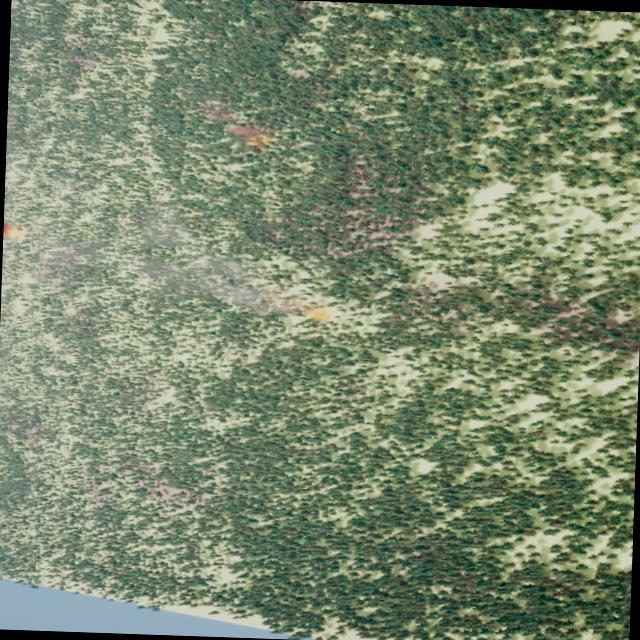fire: (302, 304, 326, 320), (3, 222, 24, 240), (246, 132, 268, 144)
smoke: (141, 219, 298, 308), (215, 109, 254, 134)
